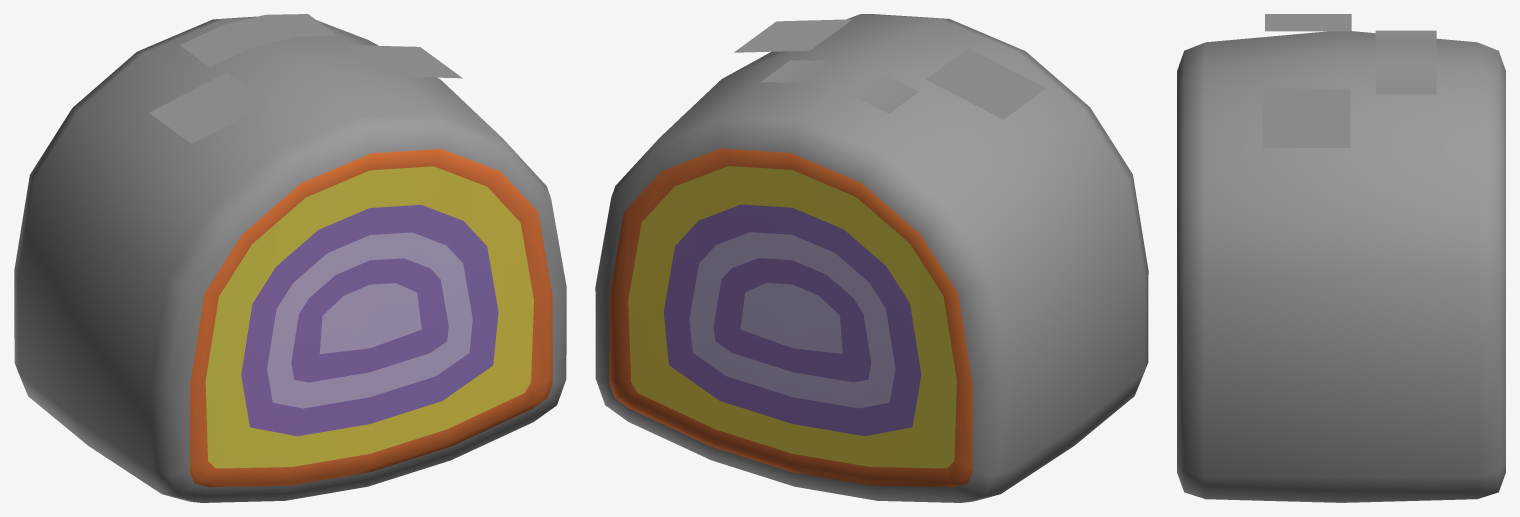
The model's file is rahat_lokum_orange.fbx.
3 views of the same model, side by side, from view 1: azimuth 30°, elevation 25°; view 2: azimuth 150°, elevation 25°; view 3: azimuth 270°, elevation 25° (orthographic).
Visible parts, largest first — view 1: coconut_flakes, rahat_lokum_orange, smile; view 2: coconut_flakes, rahat_lokum_orange, smile; view 3: coconut_flakes, smile.
Boxes of the visible parts, x1,y1,x2,y2 form: coconut_flakes: [14, 16, 566, 502]; rahat_lokum_orange: [190, 149, 552, 487]; smile: [149, 14, 462, 143]; coconut_flakes: [595, 14, 1148, 502]; rahat_lokum_orange: [609, 148, 972, 487]; smile: [734, 19, 1045, 119]; coconut_flakes: [1177, 31, 1505, 502]; smile: [1263, 14, 1436, 147].
Size of the model in its own units: 27.06 by 23.23 by 17.81.
